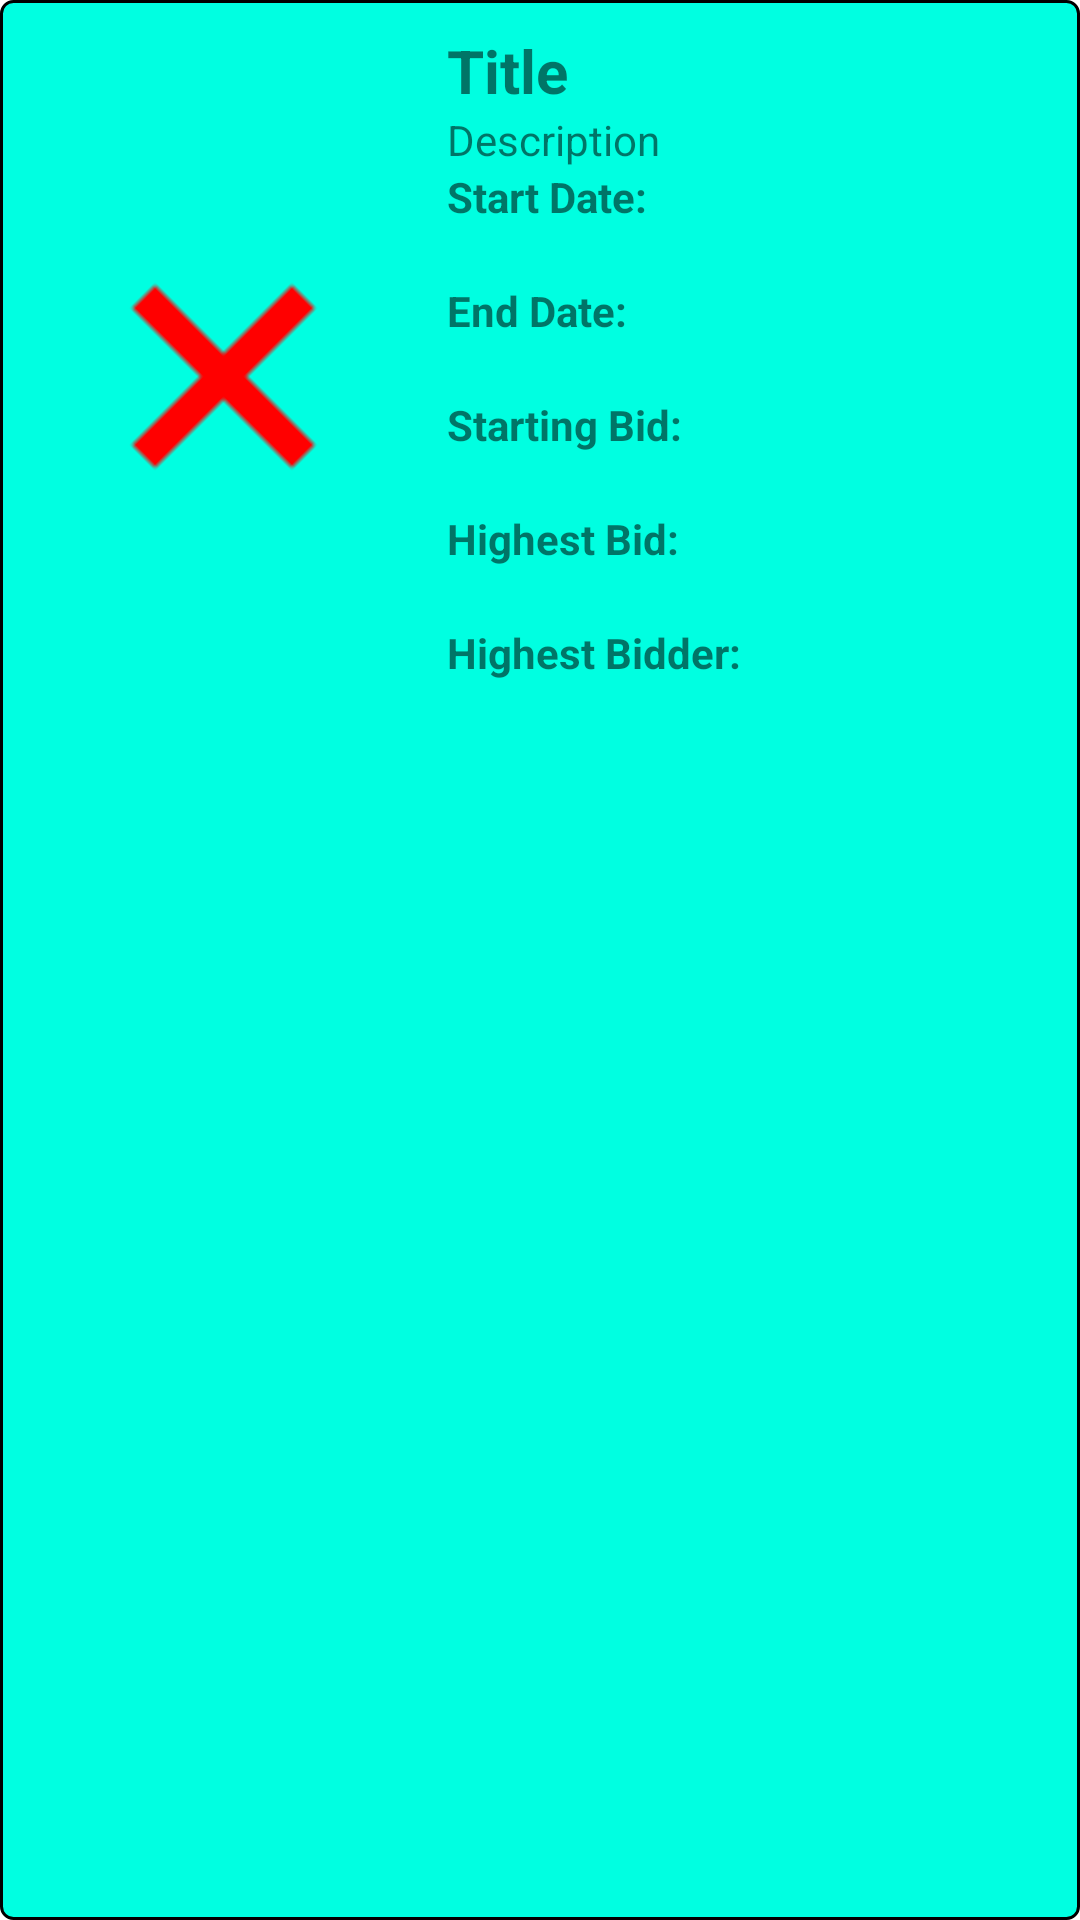

Screen size 1080 x 1920. Icon name, then its center in pixels as point (x, y):
cross: point (223, 376)
